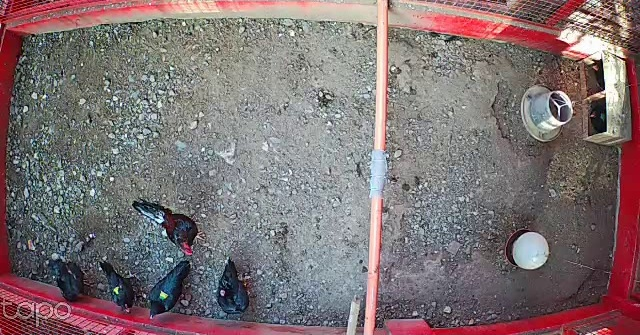Chicken: (148, 261, 190, 322), (98, 255, 138, 316), (217, 258, 256, 317), (52, 254, 89, 302)
Rooster: (127, 195, 206, 257)
Saddle_Color_Yellow: (114, 286, 119, 295)
Saddle_Color_YellowGreen: (158, 291, 169, 301)
